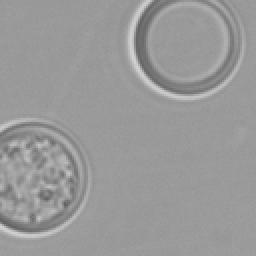picoshell: (126, 0, 244, 100), (0, 118, 90, 236)
